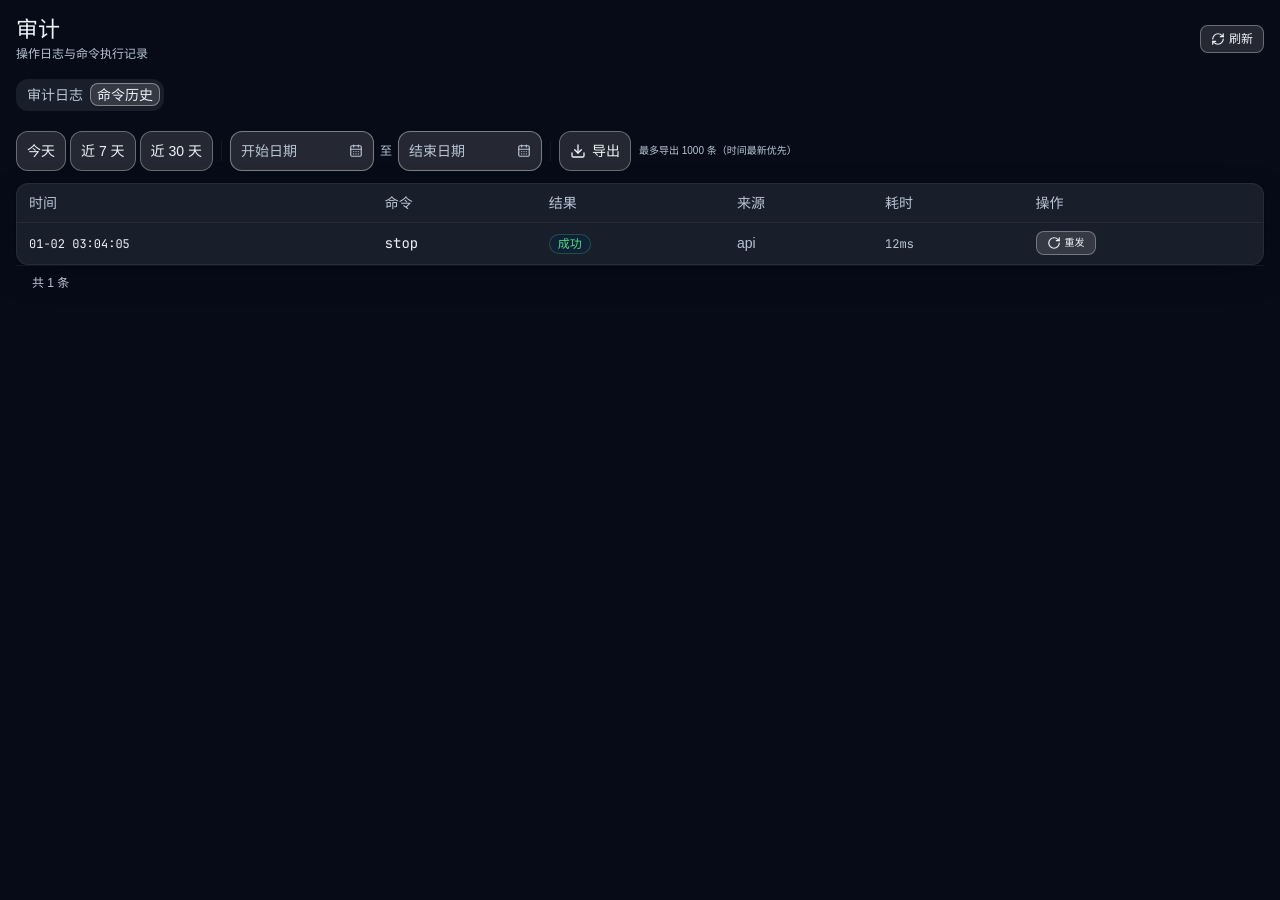
Test case: AuditPage 命令重发 › 下发失败时提示失败原因，且不重取历史（没有新行）
The image size is (1280, 900).
Click the button with aria-label "重发命令 stop" at coordinates (1066, 243), box [1036,231,1096,255]
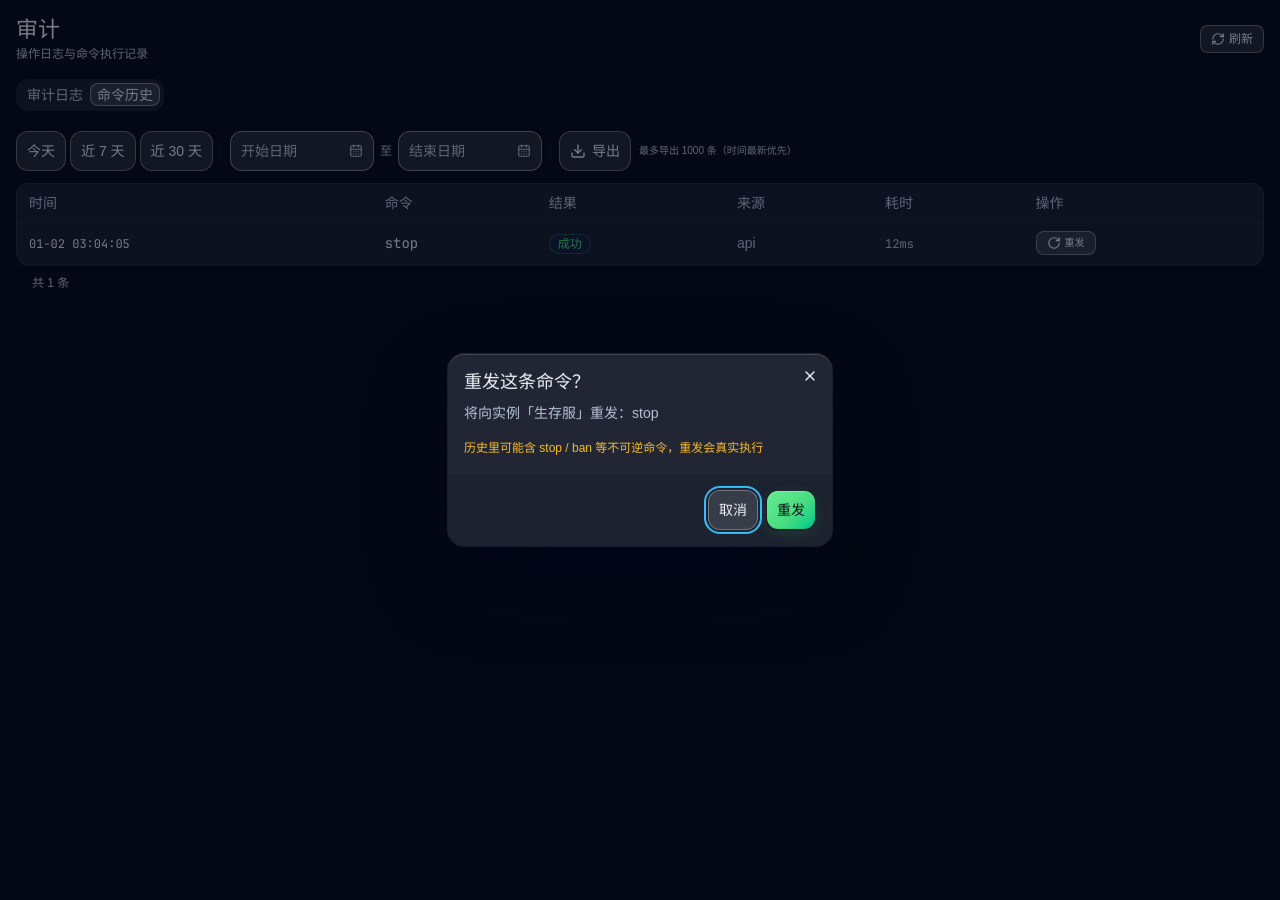
Click the button "重发" at coordinates (791, 510), box [766,490,816,530]
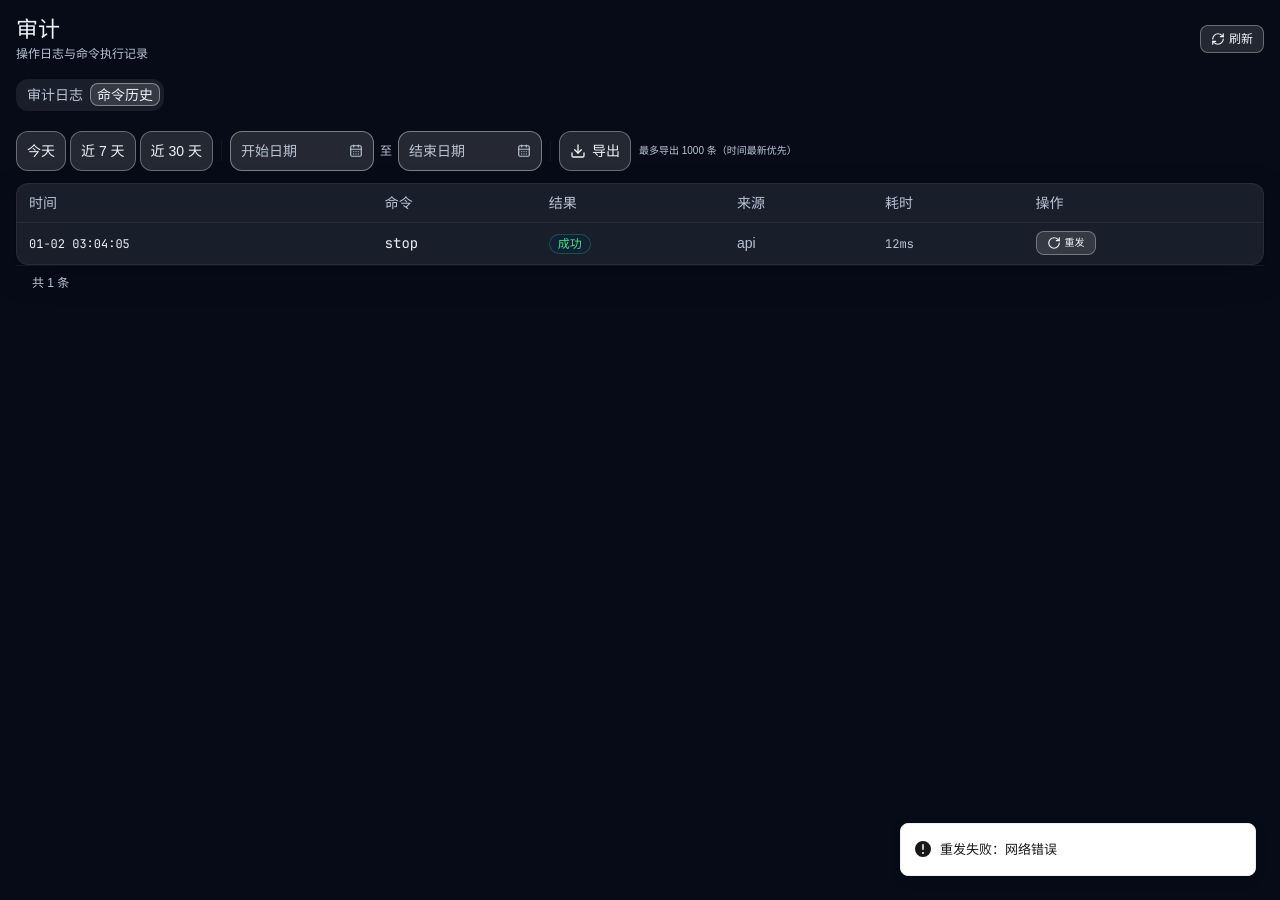
Expected: the text "重发失败：网络错误" is shown, [940,840,1057,859]
